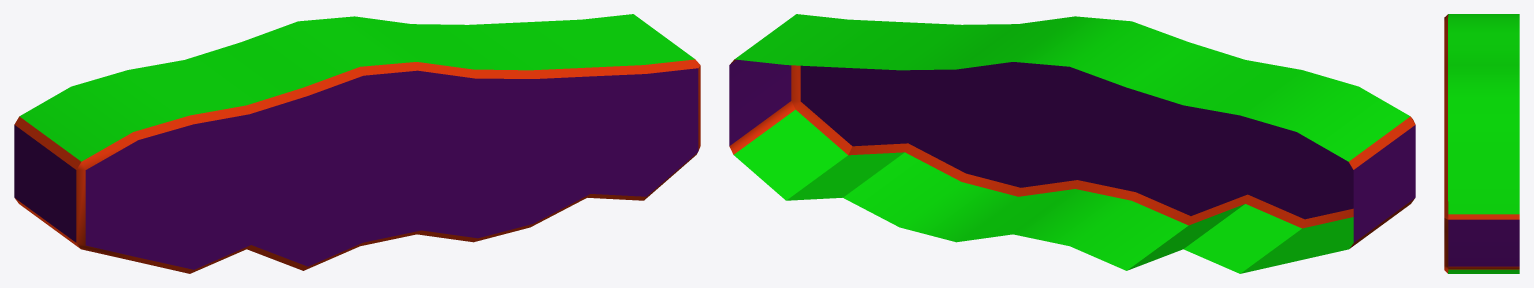
File: Floating Piece 5.fbx
3 views of the same model, side by side, from view 1: azimuth 30°, elevation 25°; view 2: azimuth 150°, elevation 25°; view 3: azimuth 270°, elevation 25° (orthographic). The views are drawn at different scales.
Visible parts, largest first — view 1: Floating_piece_5; view 2: Floating_piece_5; view 3: Floating_piece_5.
Boxes of the visible parts, x1,y1,x2,y2 form: Floating_piece_5: [14, 14, 700, 273]; Floating_piece_5: [729, 14, 1415, 273]; Floating_piece_5: [1444, 14, 1519, 273].
Bounding box in the file's own units: 11 × 3.42 × 2.
